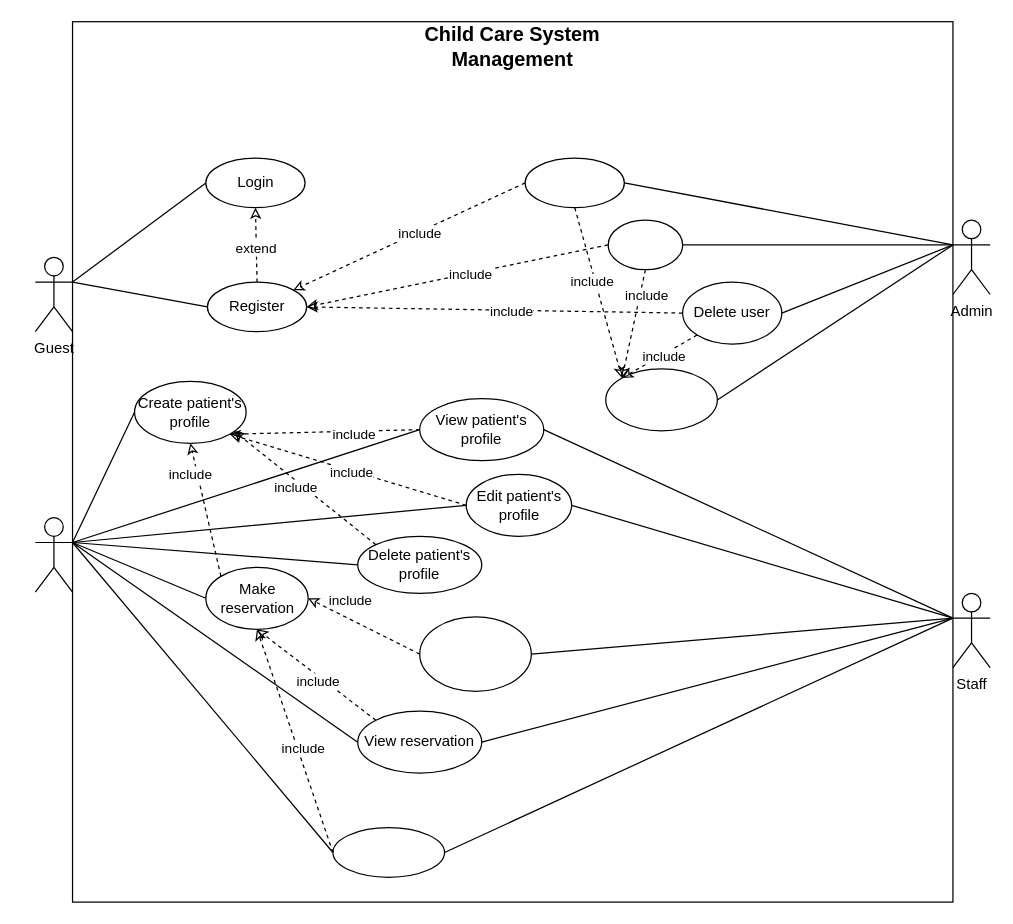
The diagram is 1013 pixels wide and 924 high, and some of its shapes have lost their labels. Here are the shapes that lost their labels. From the top down, the centre of each, then its label:
At (574,182): "View user".
At (645,244): "Edit user".
At (660,399): "Create staff's account".
At (53,554): "Customer".
At (474,653): "Edit reservation".
At (388,851): "Cancel reservation".
